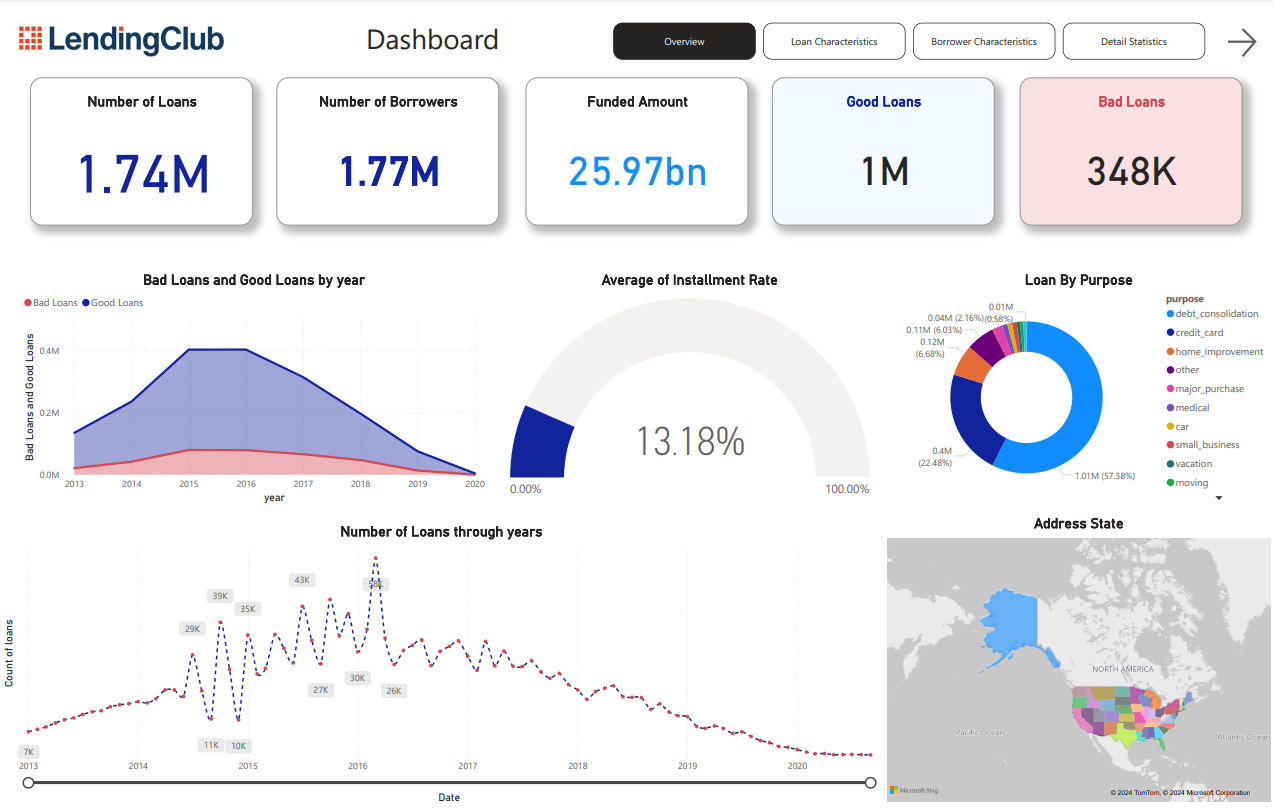

Layout of this report page (visuals, bound fields, positions):
{"tool":"powerbi","page":{"name":"Overview","canvas":[1720,1080],"ordinal":0},"visuals":[{"type":"image","box":[21.2,0,286.2,95],"z":0},{"type":"lineChart","title":"Number of Loans through years","fields":{"Y":["CountNonNull(Fact_Loan_Details.loan_id)"],"Category":["Dim_Time.issue_date"]},"box":[0,697.1,1192.9,382.9],"z":1000},{"type":"filledMap","title":"Address State","fields":{"Category":["Dim_Borrower.addr_state"],"Series":["Dim_Borrower.addr_state"]},"box":[1192.9,682.9,527.1,397.1],"z":2000},{"type":"actionButton","box":[1650,23.3,50,50],"z":3000},{"type":"pageNavigator","box":[828.6,21.4,800,50],"z":4000},{"type":"donutChart","title":"Loan By Purpose","fields":{"Category":["Dim_Loan.purpose"],"Y":["CountNonNull(Fact_Loan_Details.loan_id)"]},"box":[1192.9,338.6,527.1,338.6],"z":5000},{"type":"card","title":"Number of Borrowers","fields":{"Values":["CountNonNull(Dim_Borrower.borrower_id)"]},"box":[374.3,95.7,300,200],"z":6000},{"type":"card","title":"Number of Loans","fields":{"Values":["CountNonNull(Dim_Loan.loan_id)"]},"box":[42.9,95.7,300,200],"z":7000},{"type":"card","title":"Funded Amount","fields":{"Values":["Sum(Fact_Loan_Details.funded_amnt)"]},"box":[710,95.7,300,200],"z":8000},{"type":"stackedAreaChart","fields":{"Category":["Dim_Time.year"],"Y":["Fact_Loan_Details.Charged Off","Fact_Loan_Details.Fully Paid"]},"box":[27.1,338.6,631.4,338.6],"z":9000},{"type":"card","title":"Bad Loans","fields":{"Values":["Fact_Loan_Details.Charged Off"]},"box":[1375.7,95.7,300,200],"z":10000},{"type":"card","title":"Good Loans","fields":{"Values":["Fact_Loan_Details.Fully Paid"]},"box":[1042.9,95.7,300,200],"z":11000},{"type":"gauge","title":"Average of Installment Rate","fields":{"Y":["Avg(Fact_Loan_Details.Int_Rate)"]},"box":[684.3,338.6,494.3,344.3],"z":12000},{"type":"textbox","box":[342.9,11.4,485.7,71.4],"z":13000}]}

Visuals, with their boxes in screenshot pixels (x1, y1, x2, y2), scaled from the page's 1720x1080 canvas onto the 1273x810 screenshot:
image: x1=16, y1=0, x2=228, y2=71
"Number of Loans through years" lineChart: x1=0, y1=523, x2=883, y2=809
"Address State" filledMap: x1=883, y1=512, x2=1272, y2=809
actionButton: x1=1221, y1=17, x2=1258, y2=55
pageNavigator: x1=613, y1=16, x2=1205, y2=54
"Loan By Purpose" donutChart: x1=883, y1=254, x2=1272, y2=508
"Number of Borrowers" card: x1=277, y1=72, x2=499, y2=222
"Number of Loans" card: x1=32, y1=72, x2=254, y2=222
"Funded Amount" card: x1=525, y1=72, x2=748, y2=222
stackedAreaChart - Dim_Time.year x Fact_Loan_Details.Charged Off: x1=20, y1=254, x2=487, y2=508
"Bad Loans" card: x1=1018, y1=72, x2=1240, y2=222
"Good Loans" card: x1=772, y1=72, x2=994, y2=222
"Average of Installment Rate" gauge: x1=506, y1=254, x2=872, y2=512
textbox: x1=254, y1=9, x2=613, y2=62
